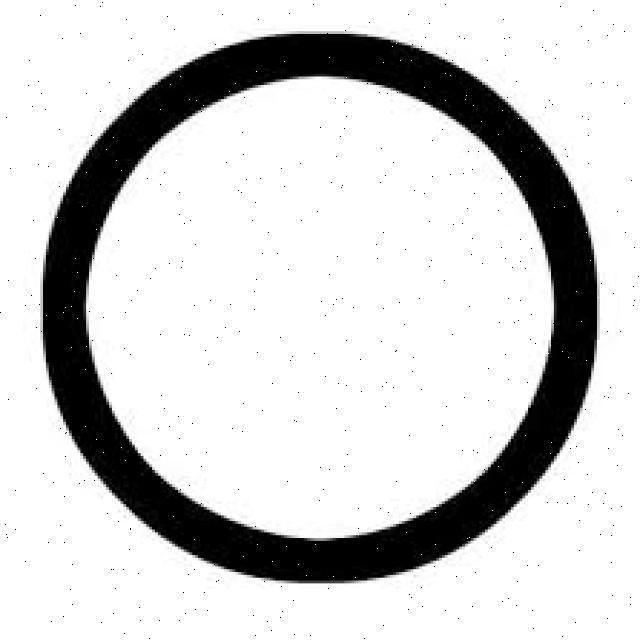Circle: (40, 30, 599, 581)
